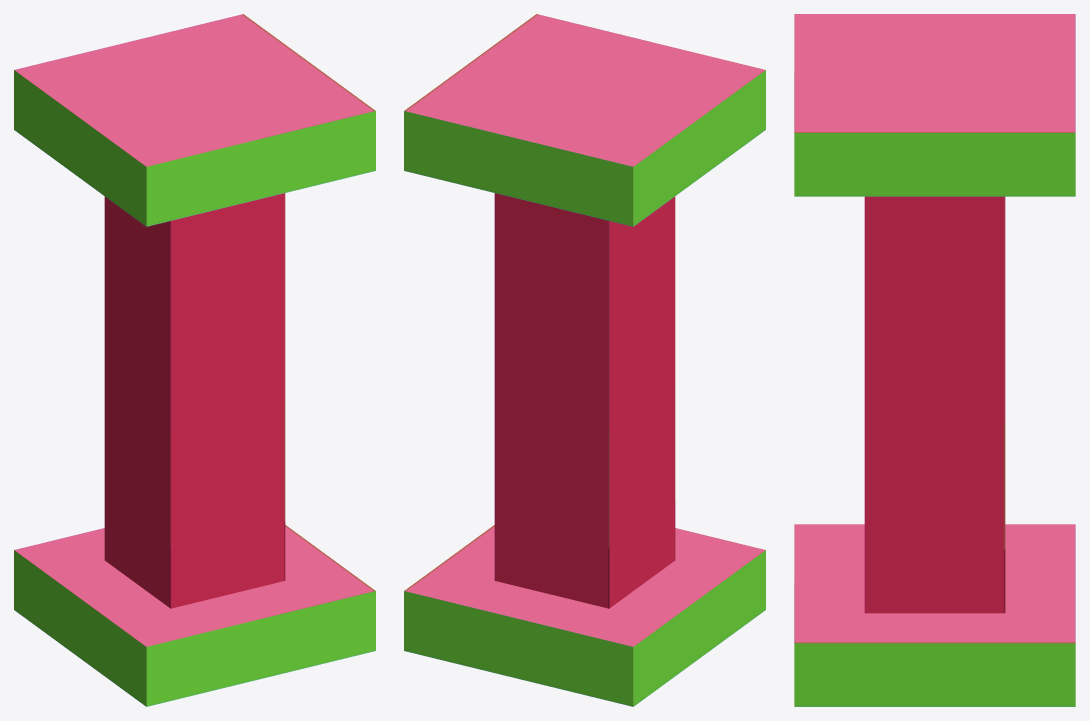
The model's file is MK_Pillar_D.fbx.
3 views of the same model, side by side, from view 1: azimuth 30°, elevation 25°; view 2: azimuth 150°, elevation 25°; view 3: azimuth 270°, elevation 25° (orthographic). The views are drawn at different scales.
Visible parts, largest first — view 1: Pillar_D; view 2: Pillar_D; view 3: Pillar_D.
Part boxes in pixels (<box>): Pillar_D: <box>14,14,375,706</box>; Pillar_D: <box>404,14,765,706</box>; Pillar_D: <box>794,14,1075,706</box>.
Bounding box in the file's own units: 90 × 202 × 90.
Materials: 1 (1 with a texture image).
